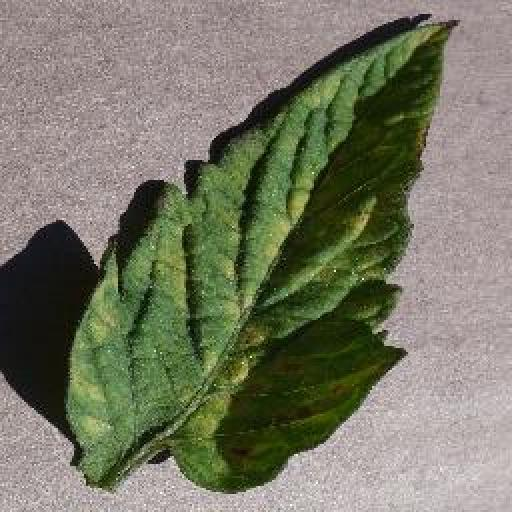disease_tomato: (67, 19, 458, 492)
